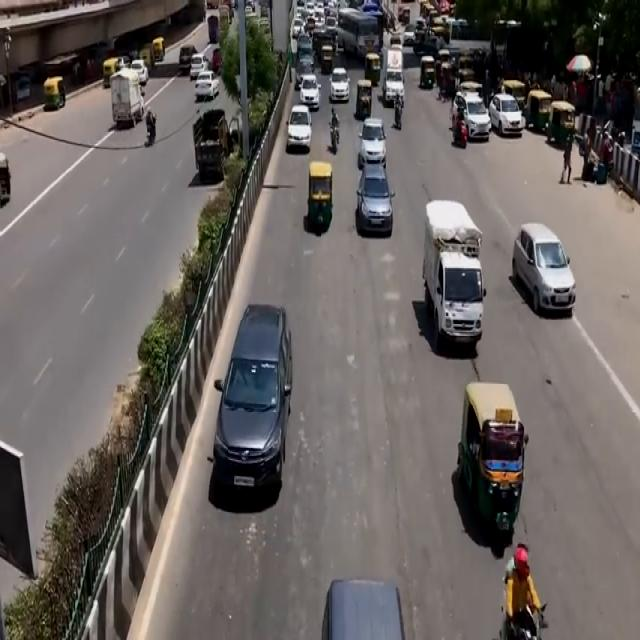BUS: (337, 6, 383, 57)
TRUCK: (428, 219, 488, 353)
